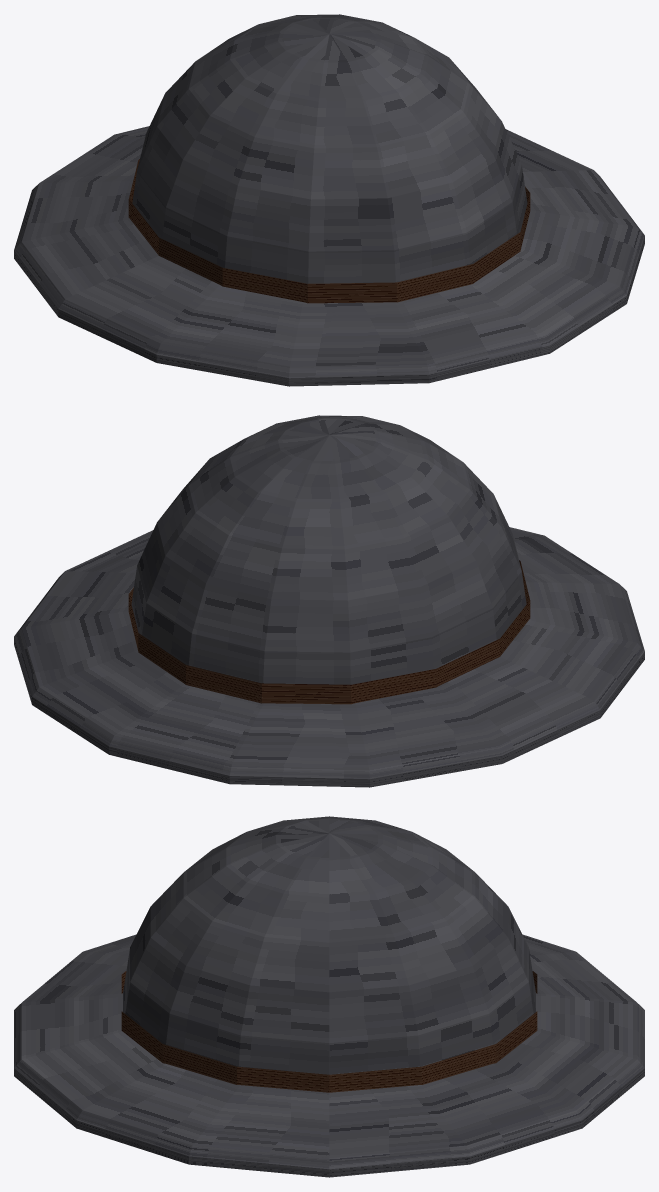
The model's file is kettlehat.glb.
3 views of the same model, one above another, from view 1: azimuth 30°, elevation 25°; view 2: azimuth 150°, elevation 25°; view 3: azimuth 270°, elevation 25° (orthographic).
Visible parts, largest first — view 1: A_KettleHat; view 2: A_KettleHat; view 3: A_KettleHat.
Boxes of the visible parts, <box> form: A_KettleHat: <box>14,14,644,386</box>; A_KettleHat: <box>14,415,644,787</box>; A_KettleHat: <box>14,816,644,1177</box>.
Size of the model in its own units: 0.41 by 0.157 by 0.4197.
2 materials, 2 textured.
